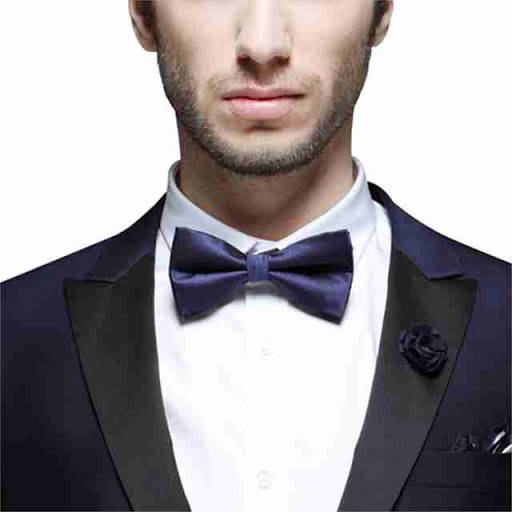bow: (165, 219, 361, 334)
